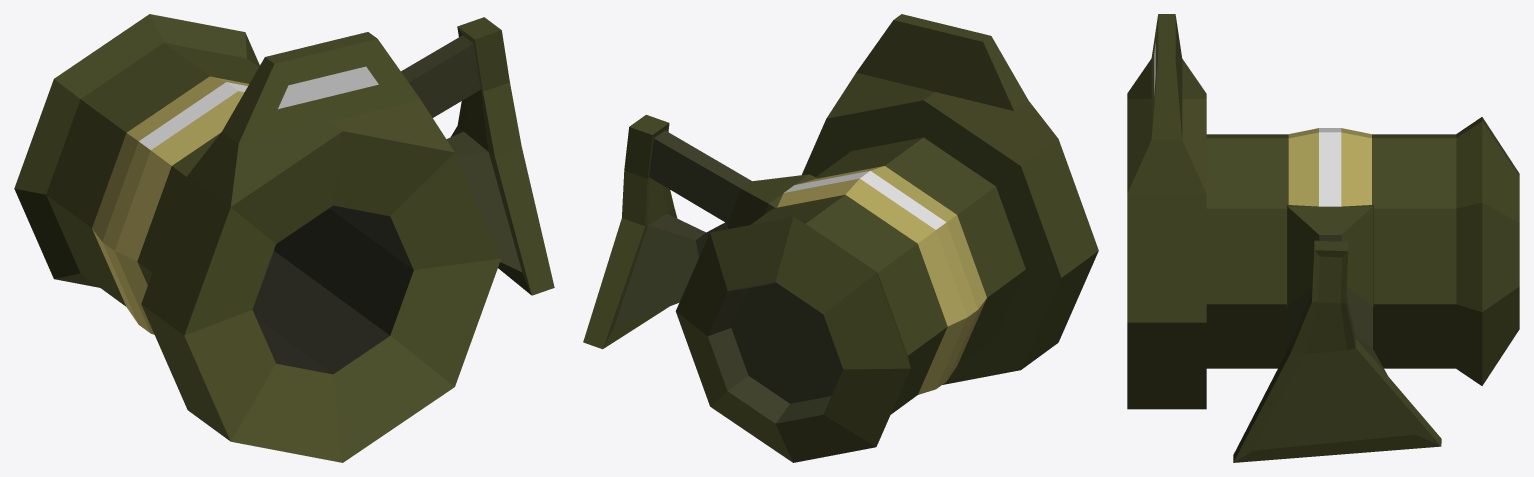
The model's file is rakietnica_014.gltf.
3 renders of one model, left to right at view 1: azimuth 30°, elevation 25°; view 2: azimuth 150°, elevation 25°; view 3: azimuth 270°, elevation 25°, orthographic. The views are drawn at different scales.
Visible parts, largest first — view 1: Cylinder; view 2: Cylinder; view 3: Cylinder.
Part boxes in pixels (left/top/right/bottom): Cylinder: left=14, top=14, right=554, bottom=462; Cylinder: left=583, top=14, right=1098, bottom=462; Cylinder: left=1127, top=14, right=1519, bottom=462.
Bounding box in the file's own units: 0.801 × 0.7093 × 0.6878.
1 material, 1 textured.
